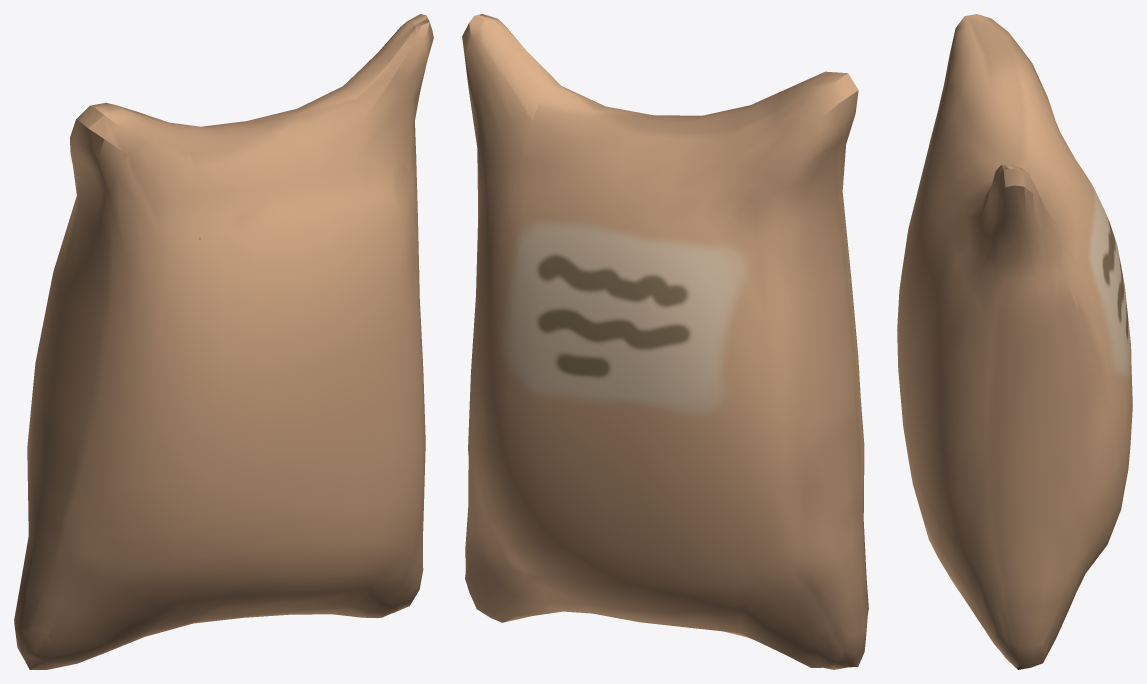
Rendered from GardenSack.fbx.
The picture shows the model from 3 angles, left to right: view 1: azimuth 30°, elevation 25°; view 2: azimuth 150°, elevation 25°; view 3: azimuth 270°, elevation 25°; orthographic projection. The views are drawn at different scales.
Visible parts, largest first — view 1: FertilizerBag; view 2: FertilizerBag; view 3: FertilizerBag.
Part boxes in pixels (<box>): FertilizerBag: <box>14,14,433,669</box>; FertilizerBag: <box>462,14,868,669</box>; FertilizerBag: <box>897,14,1132,669</box>.
Size of the model in its own units: 260 by 367 by 151.
1 material, 1 textured.
